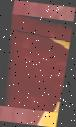scratch: (0, 14, 74, 112)
